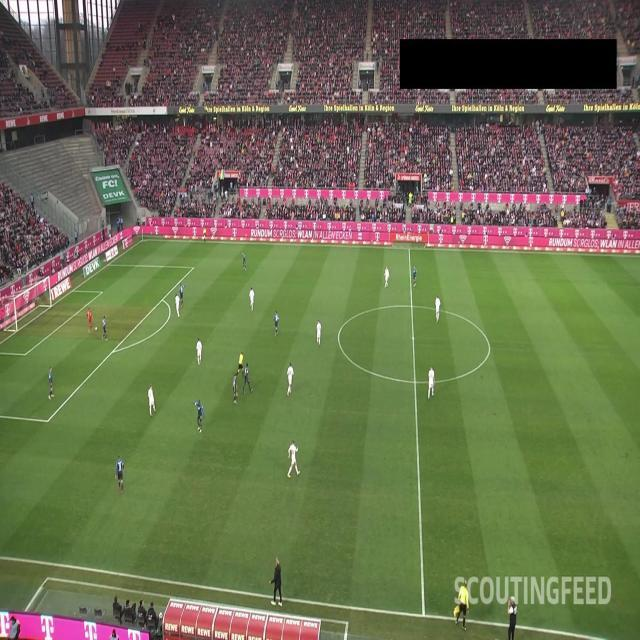ball: (95, 326, 98, 332)
goalkeeper: (87, 308, 93, 333)
player: (287, 439, 301, 478), (193, 400, 206, 433), (116, 453, 125, 495), (242, 362, 253, 394), (148, 384, 157, 417), (287, 362, 295, 397), (428, 367, 436, 400), (232, 372, 239, 405), (48, 365, 54, 399), (274, 310, 280, 338), (196, 338, 202, 366), (102, 315, 108, 341), (316, 320, 322, 346), (436, 295, 441, 323), (176, 292, 181, 318), (250, 287, 255, 313), (179, 284, 184, 307), (385, 265, 390, 288), (413, 265, 418, 287), (243, 251, 247, 271)
referee: (455, 580, 470, 631), (237, 352, 244, 378), (203, 224, 207, 243)
